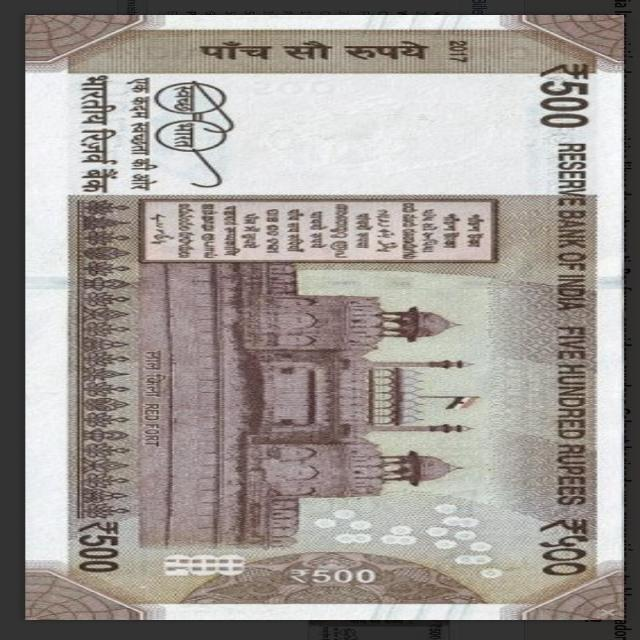500IndianRupees: (26, 13, 619, 614)
